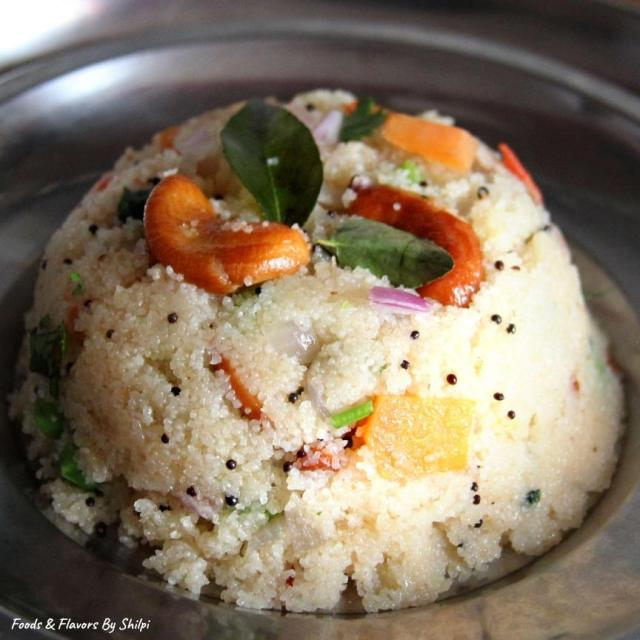upma: (0, 74, 636, 620)
